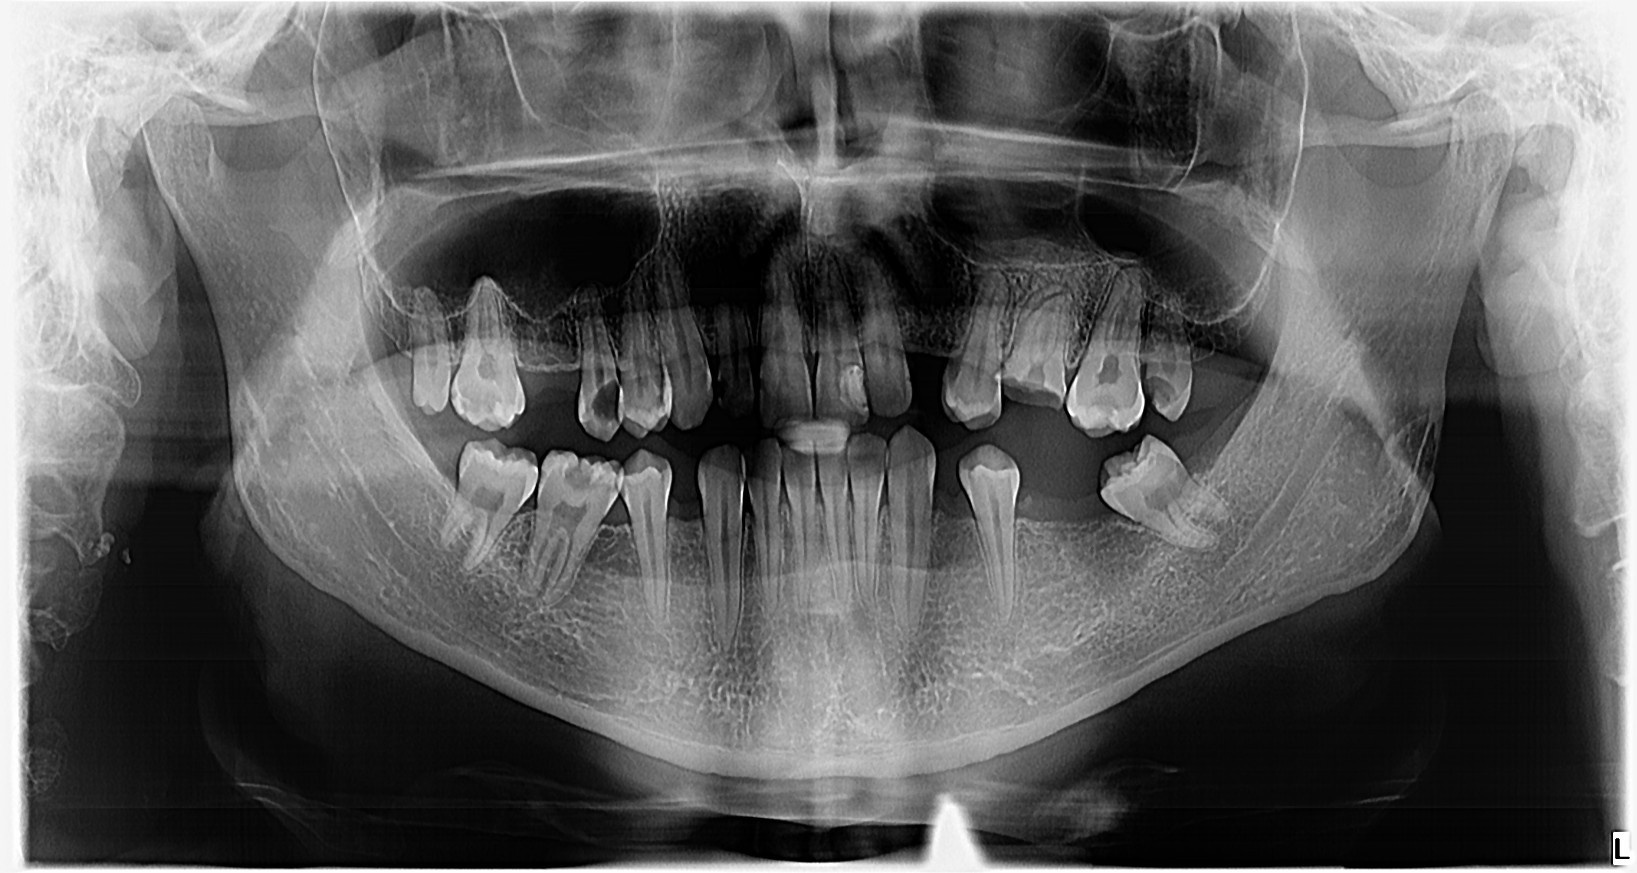CAR: (994, 367, 1066, 413), (579, 372, 631, 430), (1140, 367, 1188, 416), (459, 377, 499, 422), (566, 447, 602, 498), (1083, 390, 1126, 416), (531, 465, 556, 486), (444, 382, 462, 406), (600, 480, 620, 500)
OBT: (822, 356, 882, 418)
